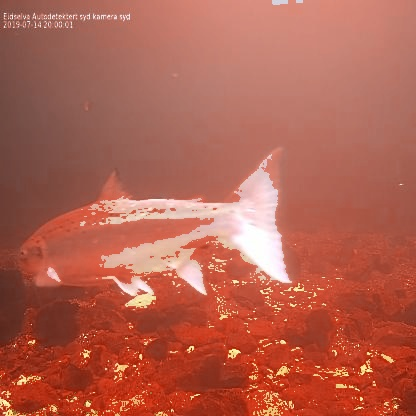salmon: (13, 144, 296, 301)
